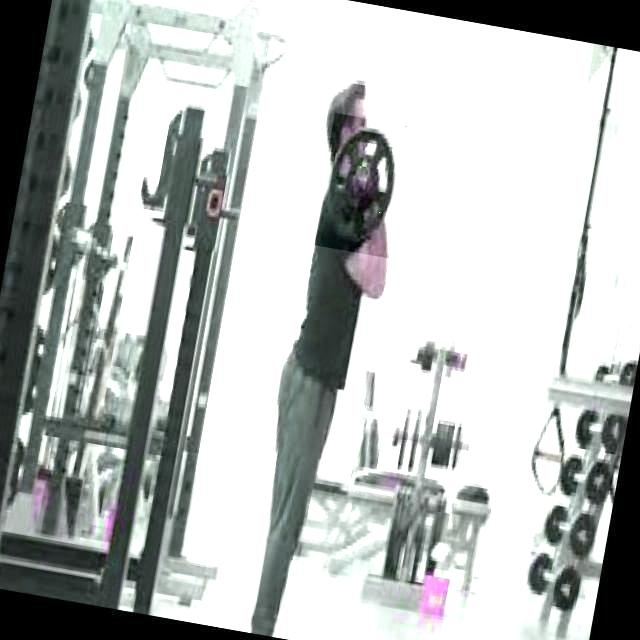barbell: (312, 113, 412, 258)
